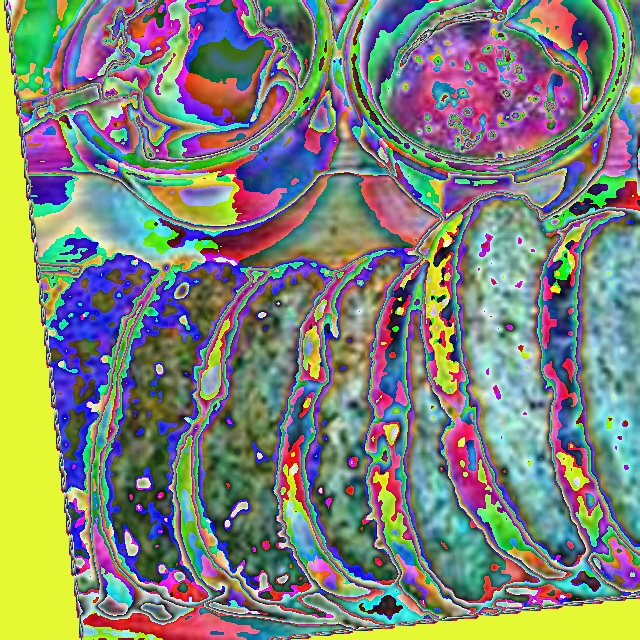background: (38, 188, 639, 619), (5, 43, 639, 177), (200, 0, 584, 160), (98, 0, 302, 160)
